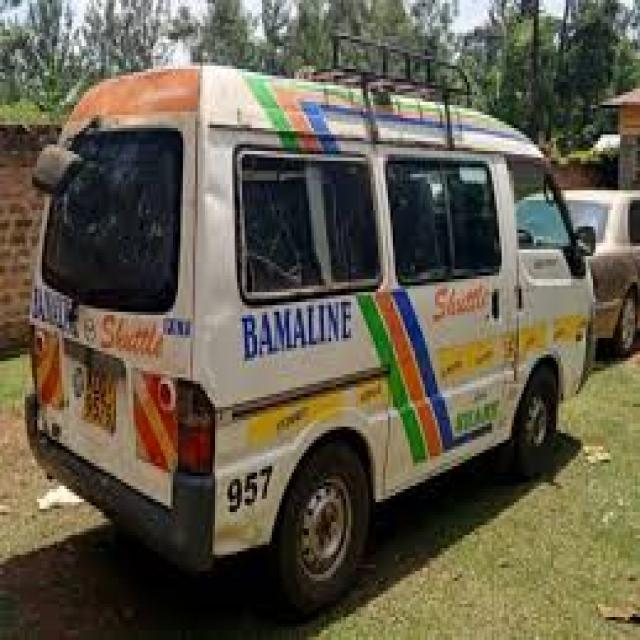matatu: (22, 28, 614, 612)
